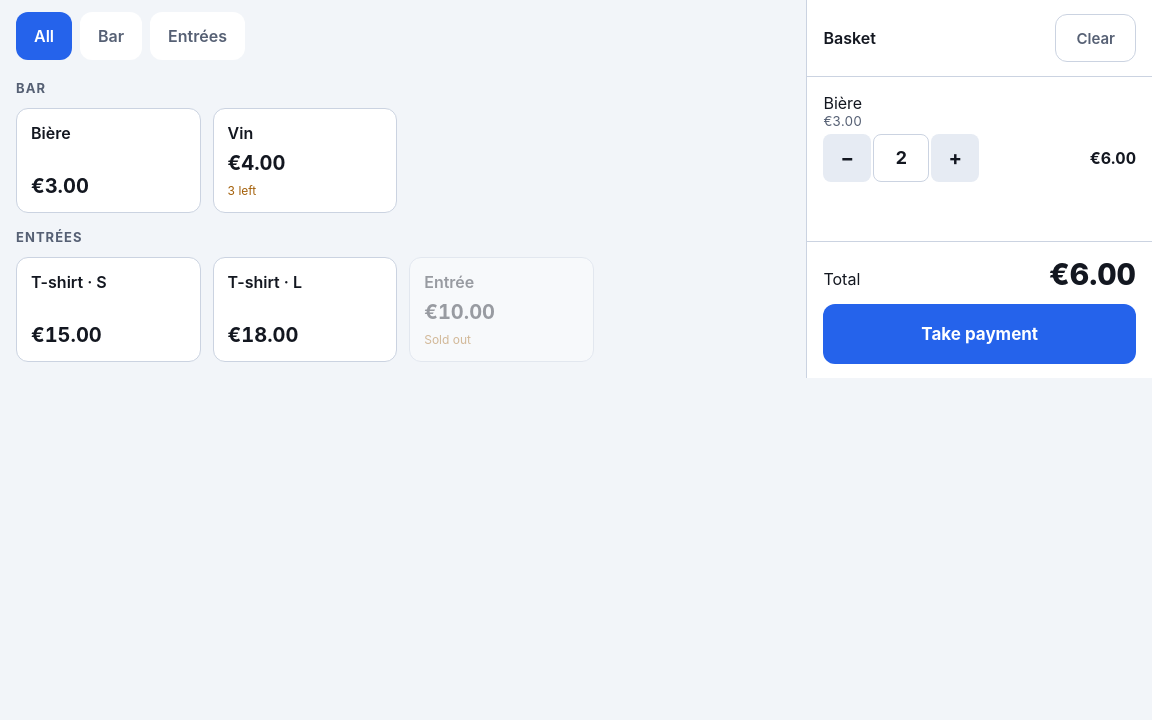
how many › asks on the count rather than counting taps
Click the button "2". click: (901, 158)
box: x1=873 y1=134 x2=929 y2=182
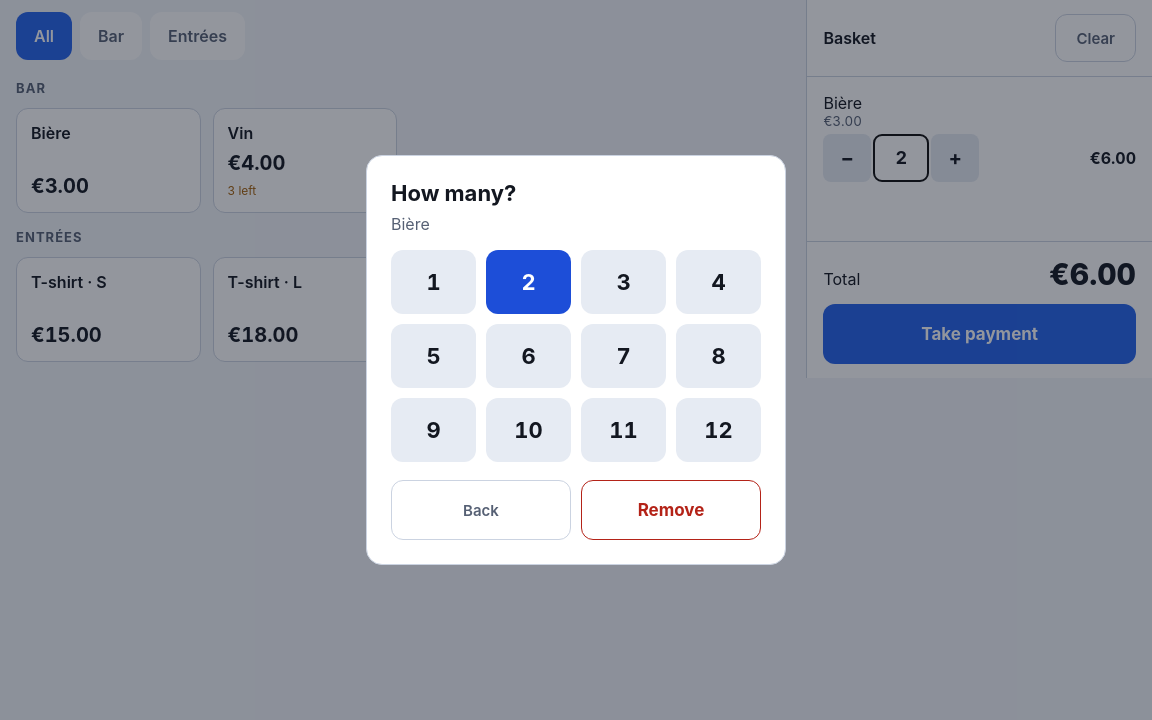
Result: the heading "How many?" is shown at x1=391 y1=180 x2=516 y2=206
